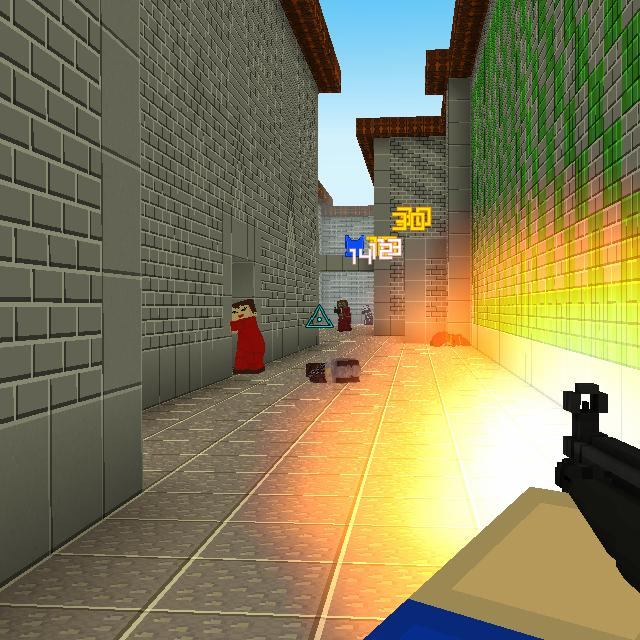enemy: (230, 293, 266, 376), (334, 299, 351, 332), (362, 304, 374, 327)
